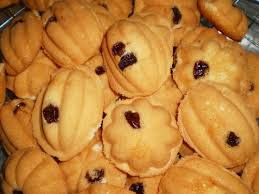kanomkai: (30, 61, 106, 166), (179, 77, 259, 166), (104, 91, 185, 177), (99, 17, 174, 100), (35, 1, 113, 79)
